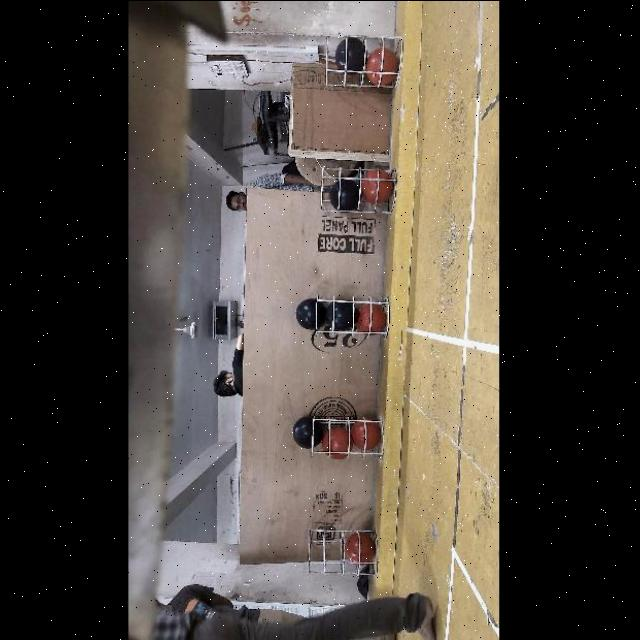P: (336, 38, 366, 76), (294, 415, 325, 447), (296, 297, 326, 330), (326, 300, 356, 332), (332, 178, 360, 212)
R: (351, 418, 385, 452), (369, 46, 399, 82), (348, 532, 377, 564), (363, 170, 391, 202), (323, 428, 351, 457), (356, 304, 384, 332)
S: (320, 30, 410, 92), (318, 160, 404, 214), (307, 413, 389, 465), (312, 292, 396, 342), (304, 522, 380, 574)
